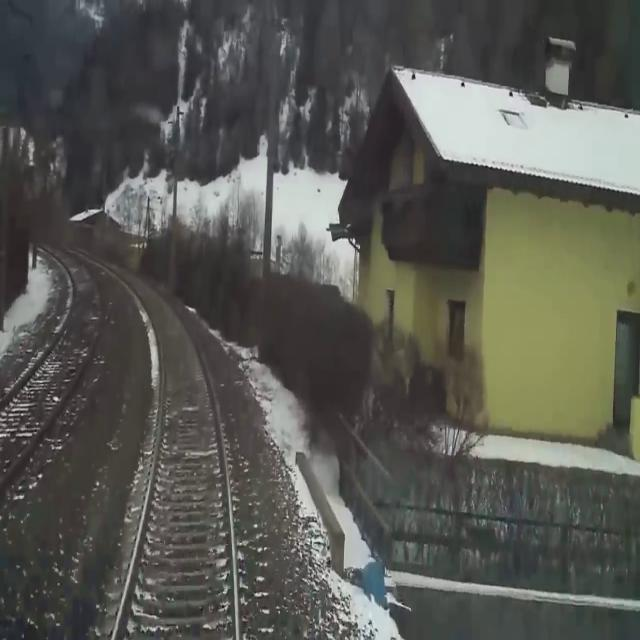rail-track: (80, 251, 234, 639), (0, 244, 103, 481)
